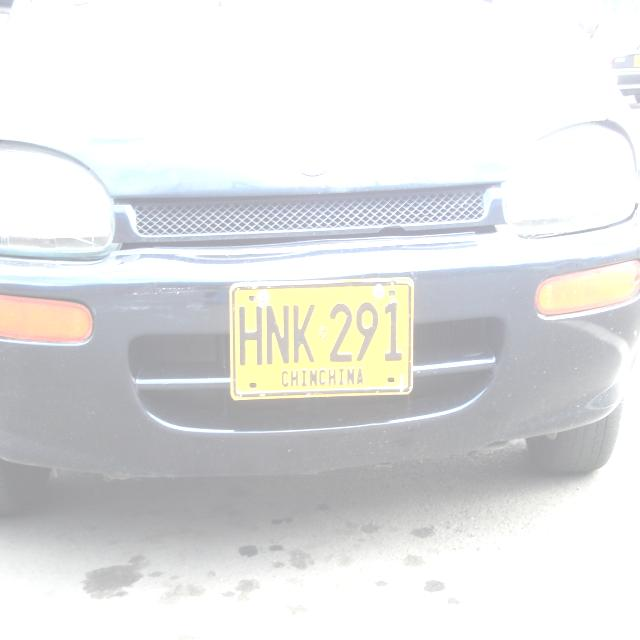particular: (222, 271, 417, 404)
